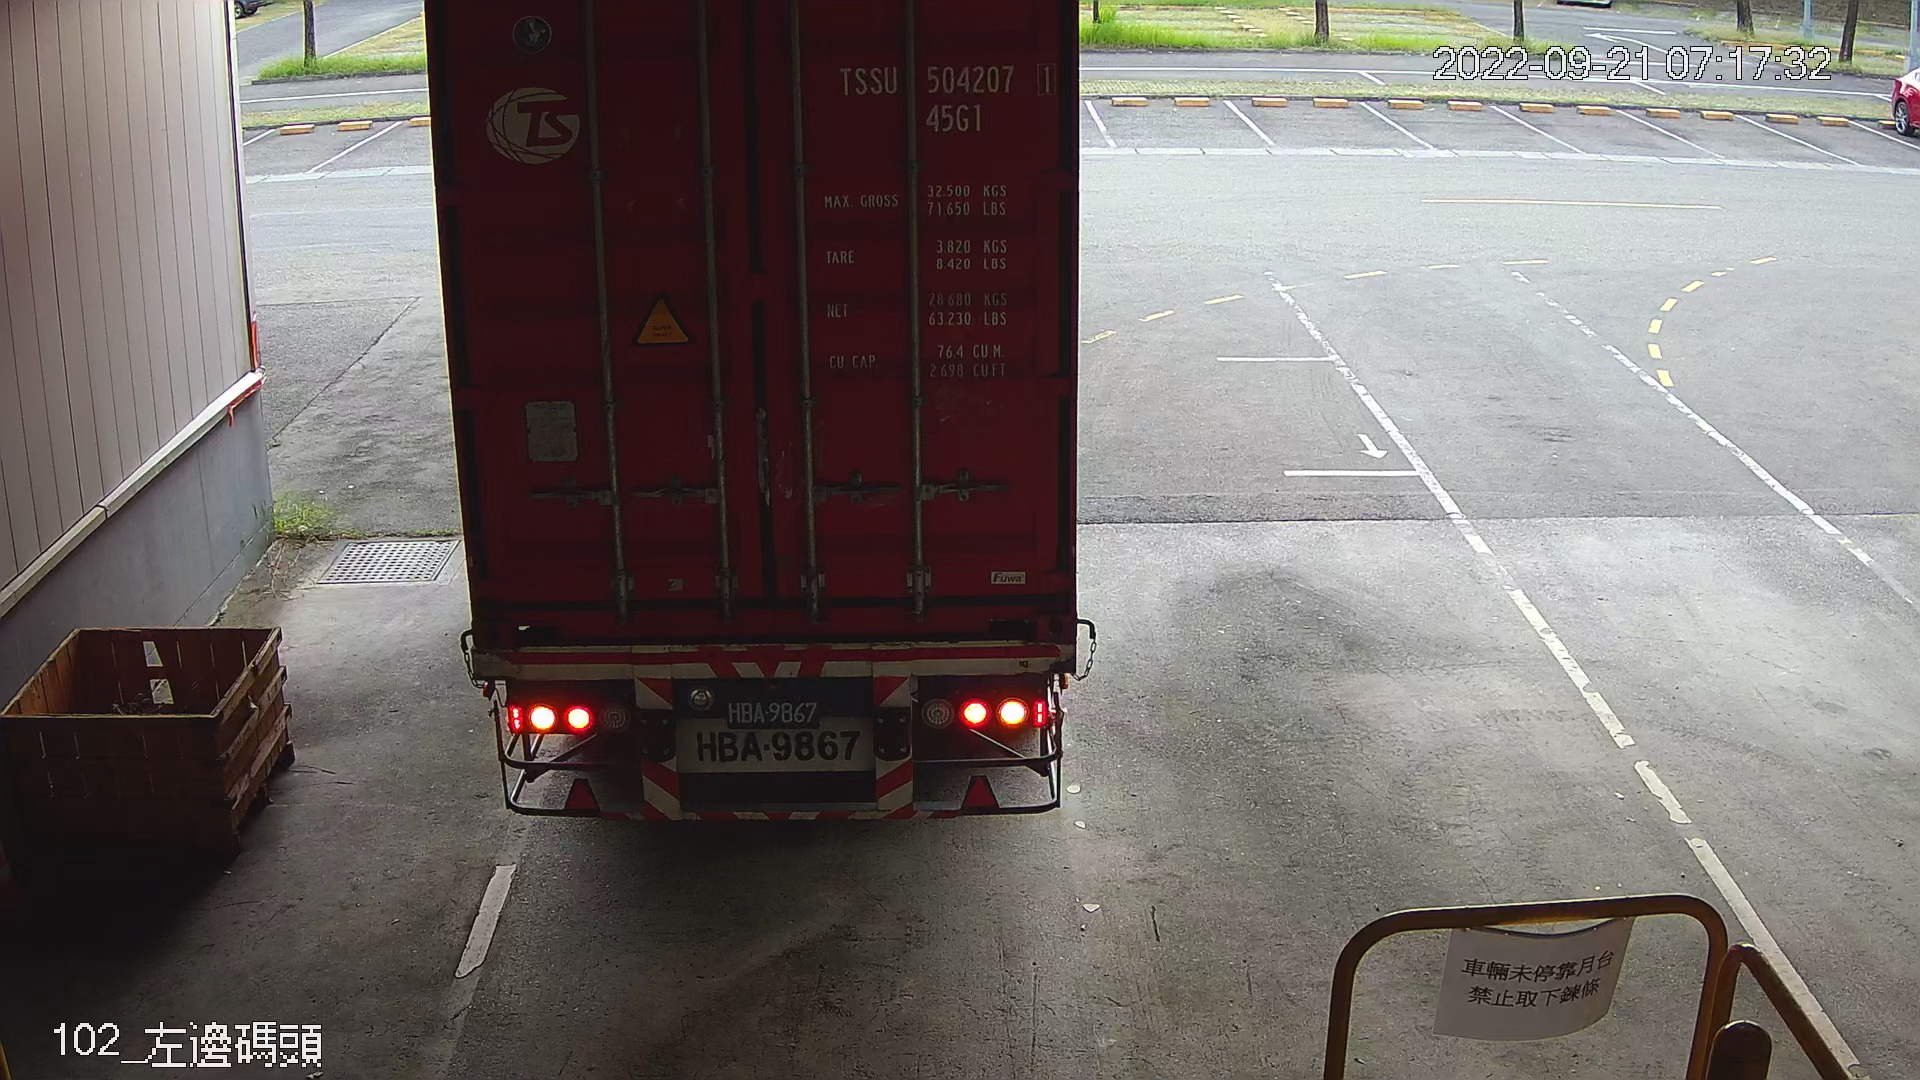container: (825, 51, 1065, 138)
